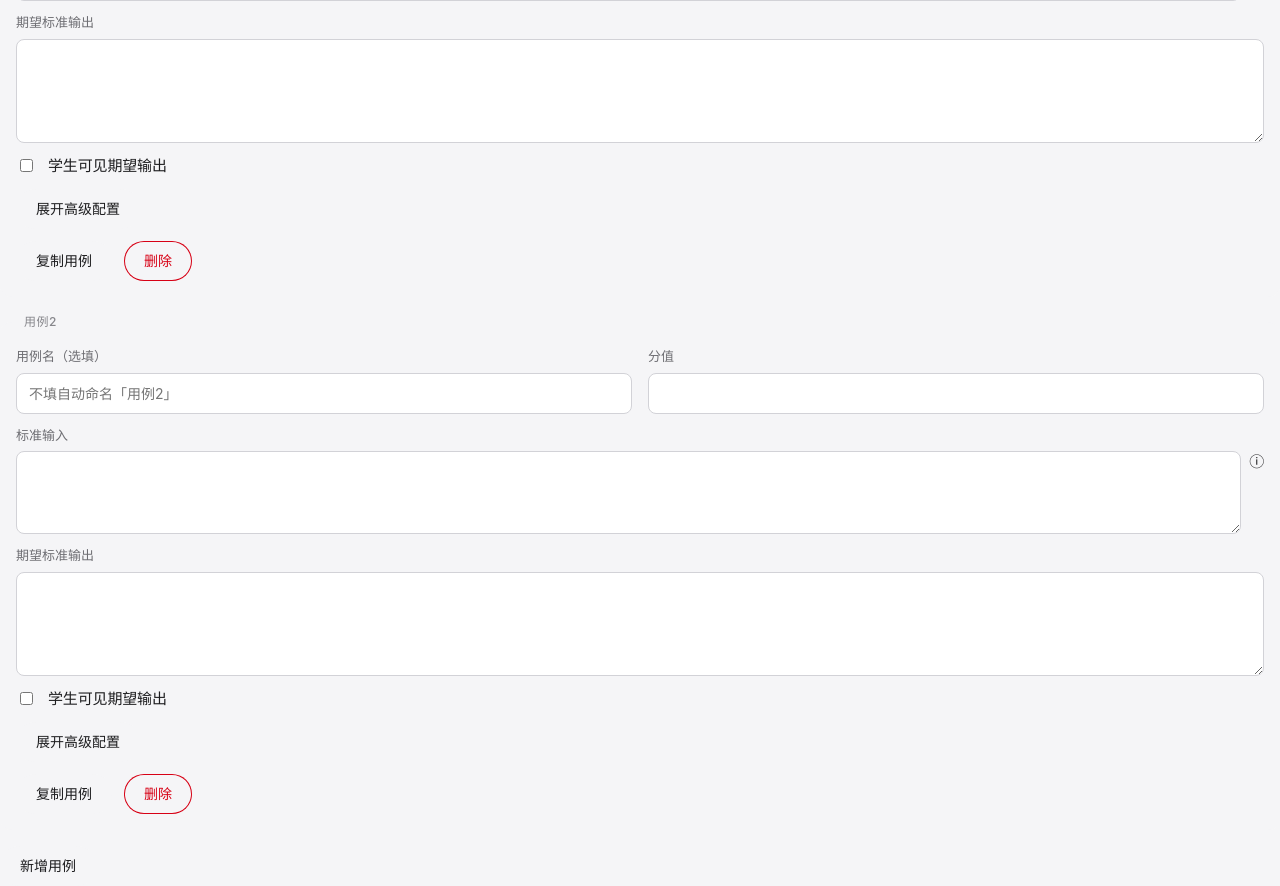
it: 删除要二次确认 › 取消删除时什么都不发生
This screenshot has width=1280, height=886.
(page scrolled)
Click the button with test id "case-remove-1" at (158, 794), box [124,774,192,814]
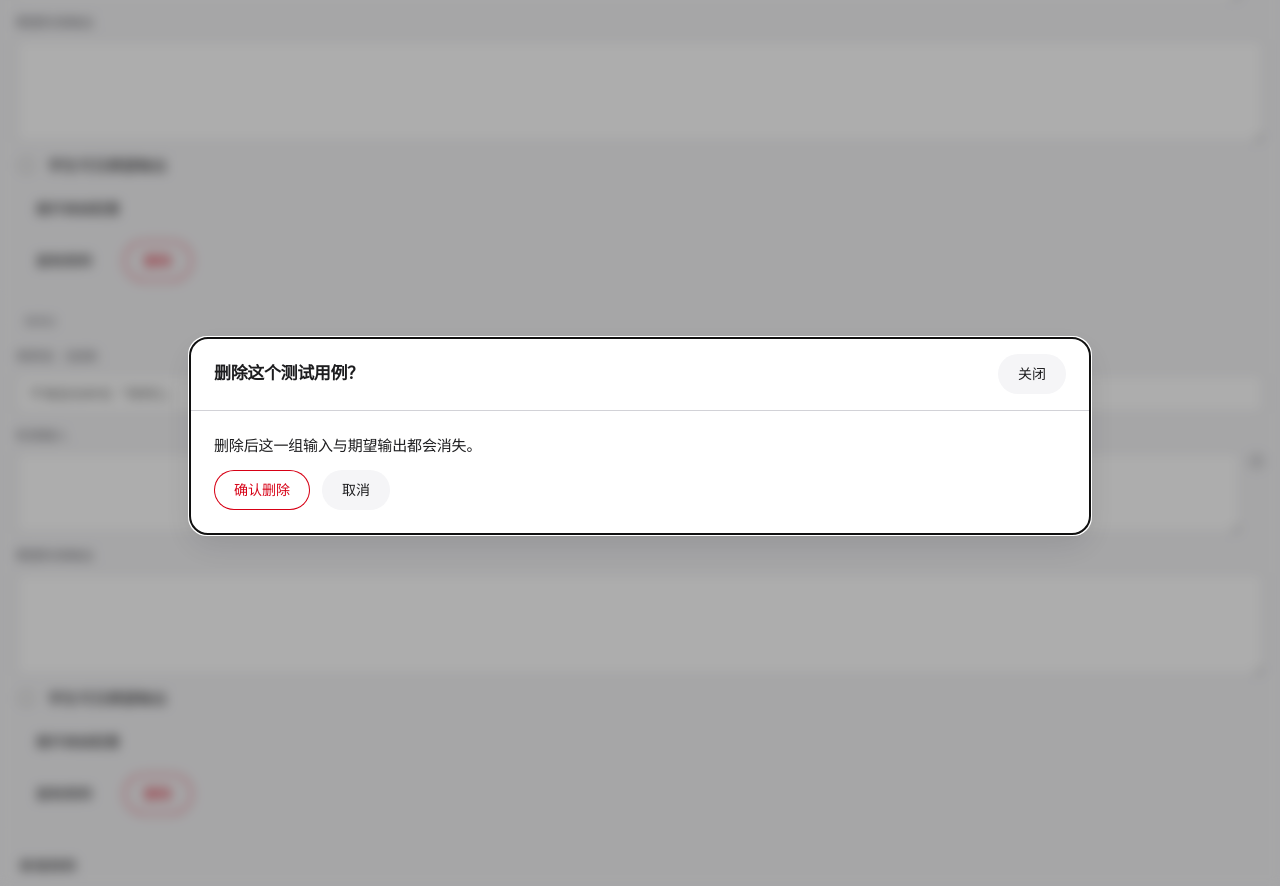
Click the button with test id "case-delete-cancel" at (356, 490), box [322,470,390,510]
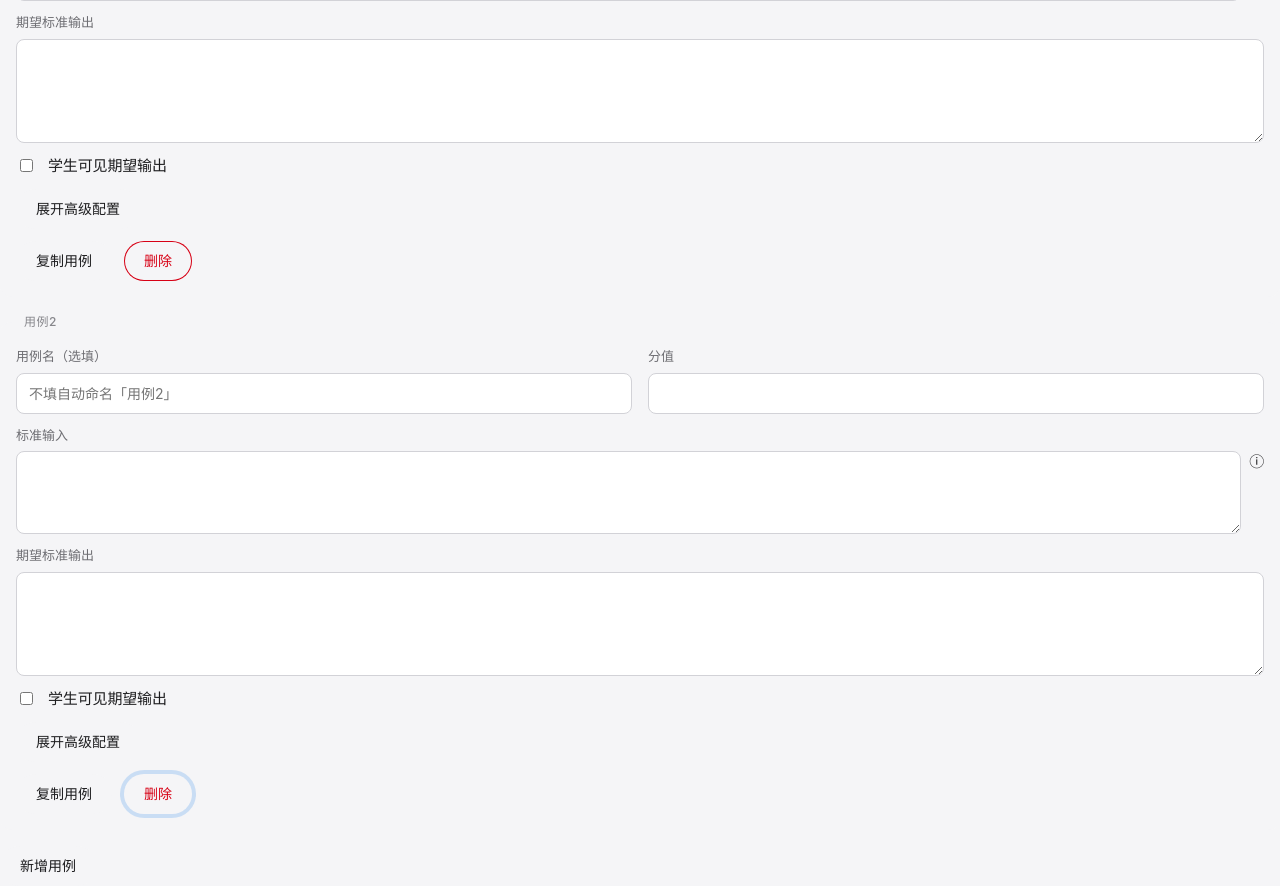
Expected: the element with test id "case-1" is shown, [0,313,1279,830]
Result: the dialog with test id "case-delete-confirm" is gone
